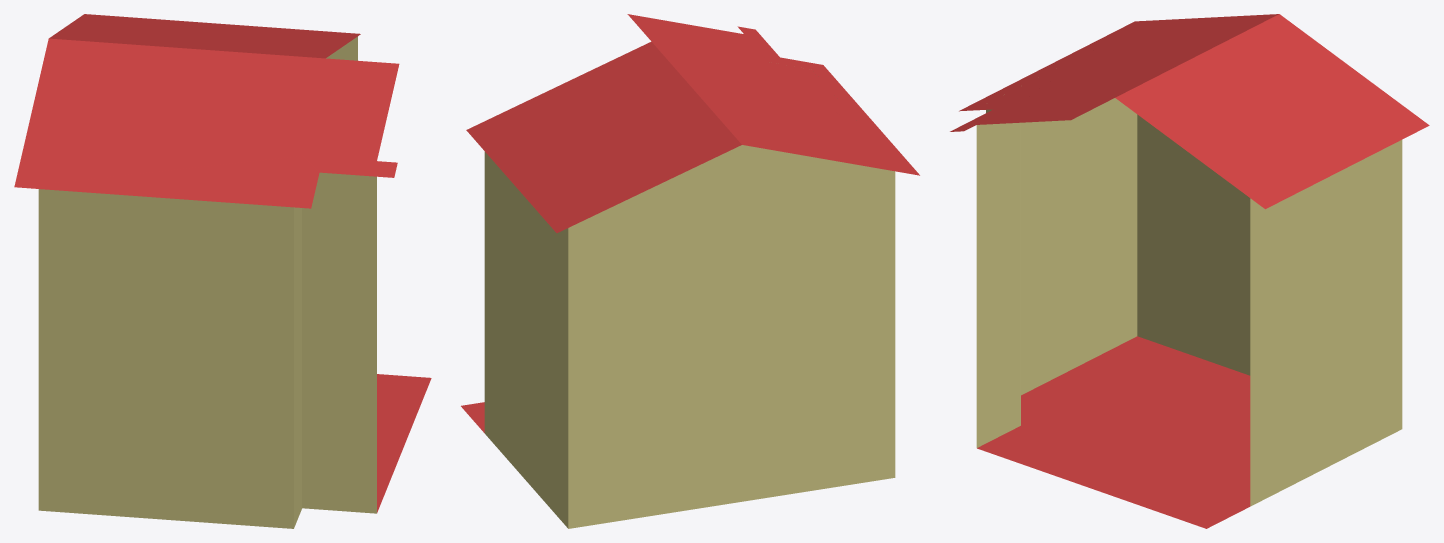
3 views of the same model, side by side, from view 1: azimuth 30°, elevation 25°; view 2: azimuth 150°, elevation 25°; view 3: azimuth 270°, elevation 25° (orthographic). The views are drawn at different scales.
Bounding box in the file's own units: 12.43 × 12.36 × 10.26.
